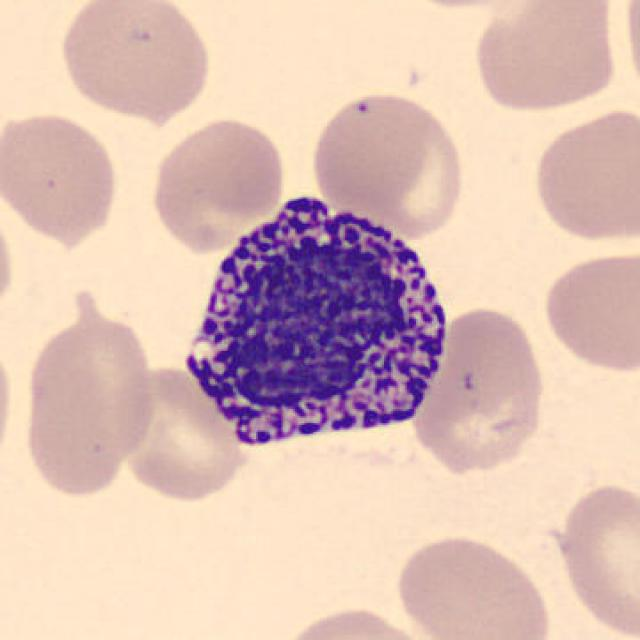Basophil: (170, 183, 460, 469)
RBC: (18, 282, 158, 501), (411, 302, 549, 460), (146, 112, 290, 255), (110, 362, 251, 504), (55, 0, 215, 123), (389, 529, 555, 640), (469, 0, 620, 116), (0, 106, 123, 245), (308, 88, 436, 212), (361, 95, 467, 242), (528, 104, 638, 245), (550, 478, 638, 638), (538, 245, 640, 375), (274, 603, 436, 640), (0, 331, 18, 478), (0, 198, 20, 326), (384, 0, 542, 14), (620, 2, 640, 104)
